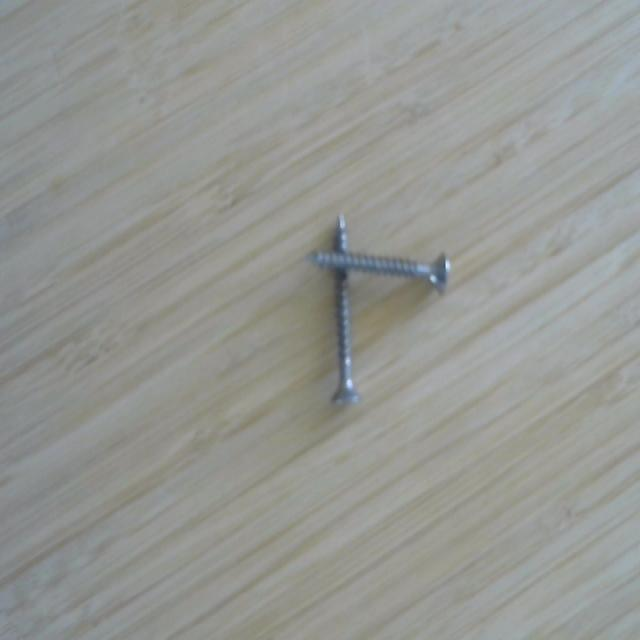Black screw: (320, 202, 367, 420), (301, 241, 455, 299)
